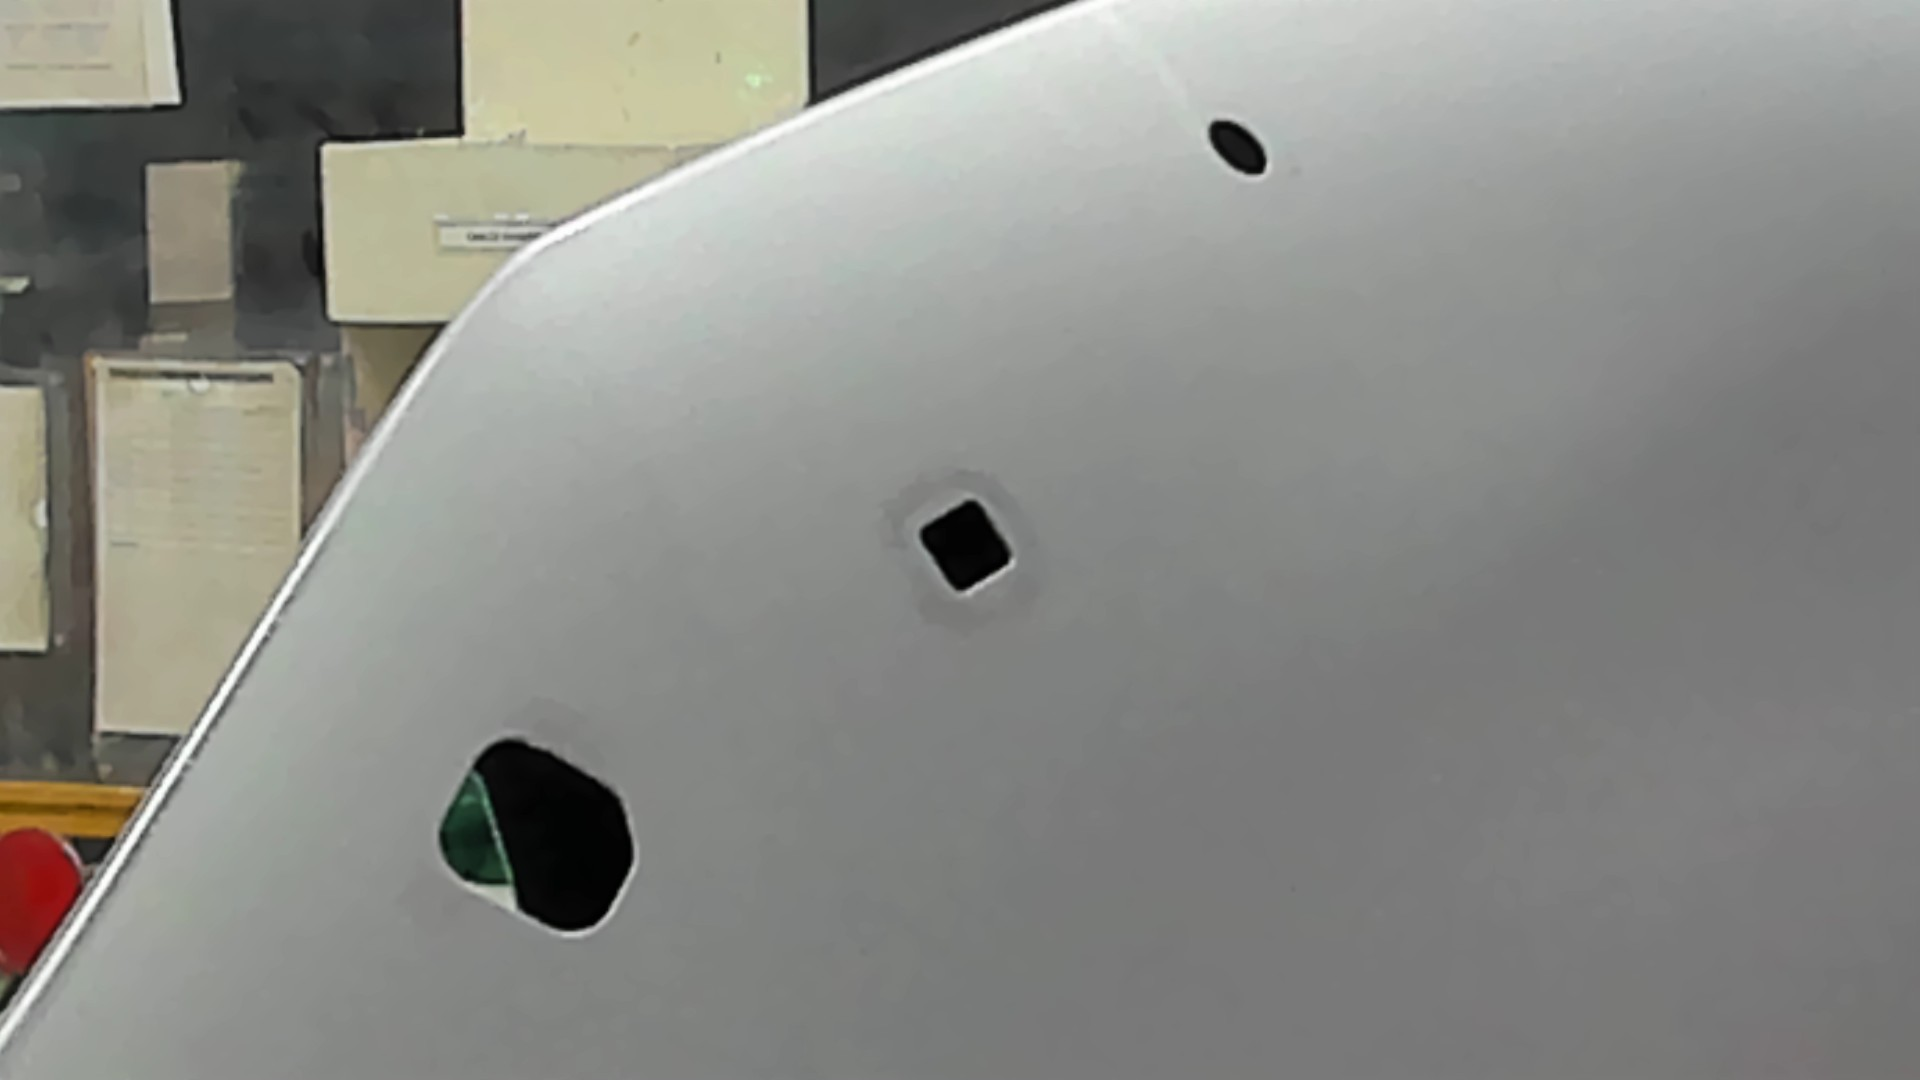chico: (1188, 103, 1288, 193)
grande: (423, 723, 647, 955)
mediano: (905, 485, 1033, 611)
